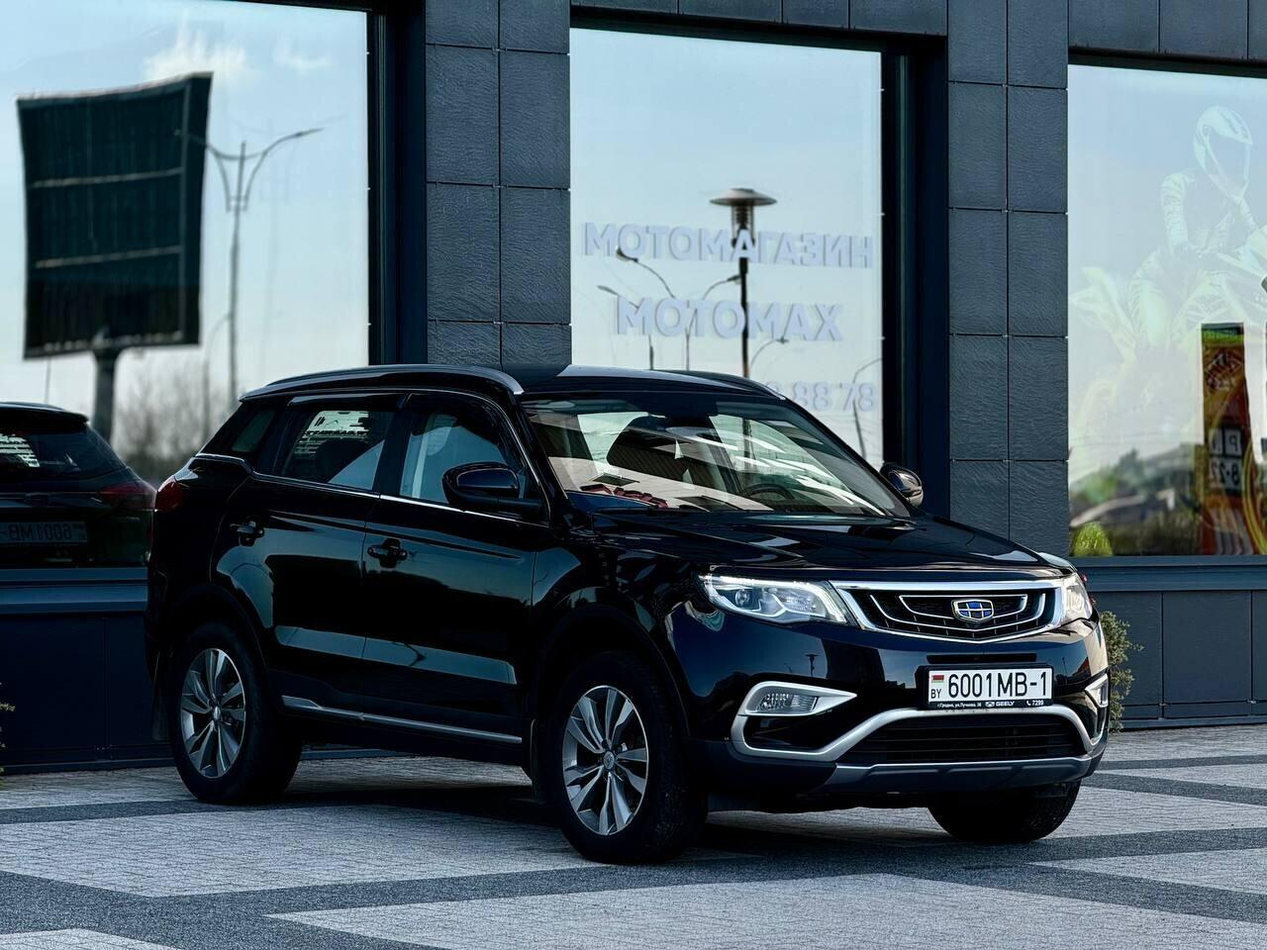Atlas_2016-2023: (146, 356, 1116, 863)
